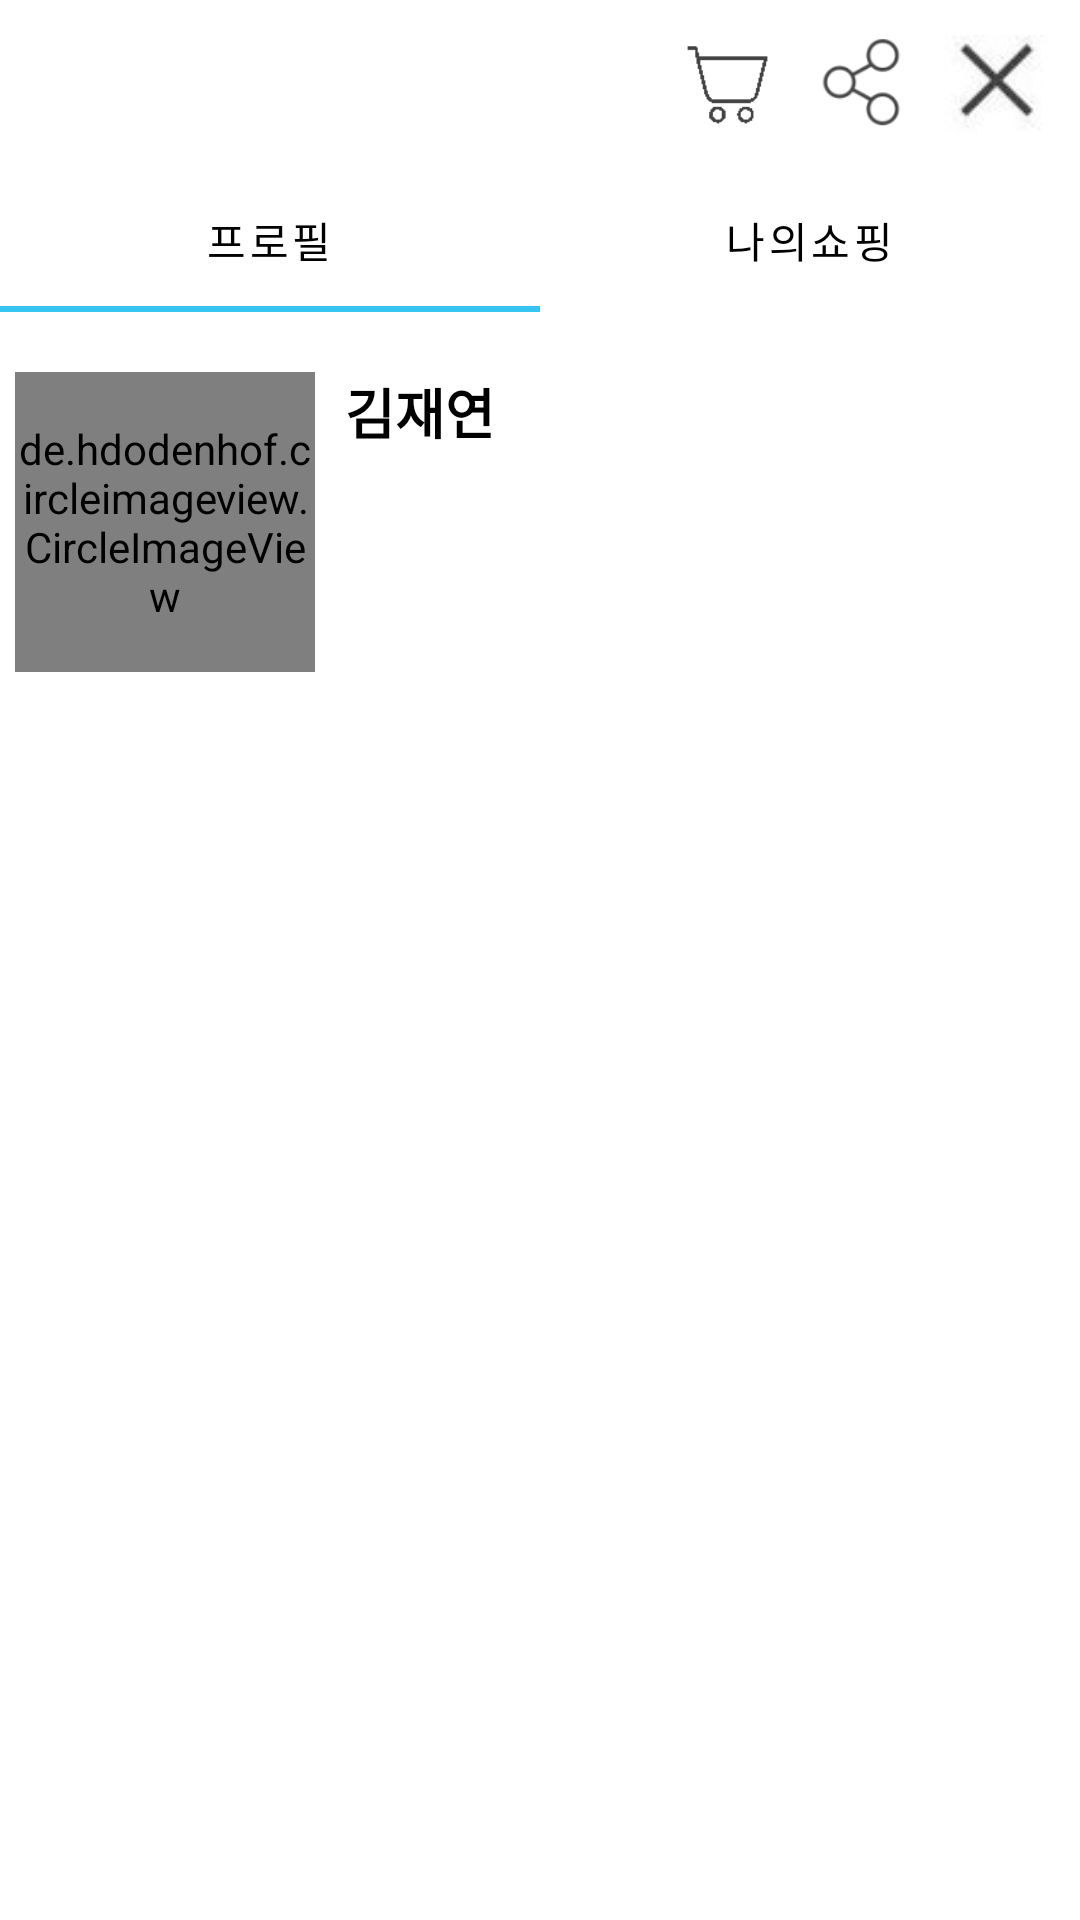

Point at icon controls on the screen. Image size 1080px x 1920px, points as (x=x, y=y).
complete back: (x=997, y=80)
